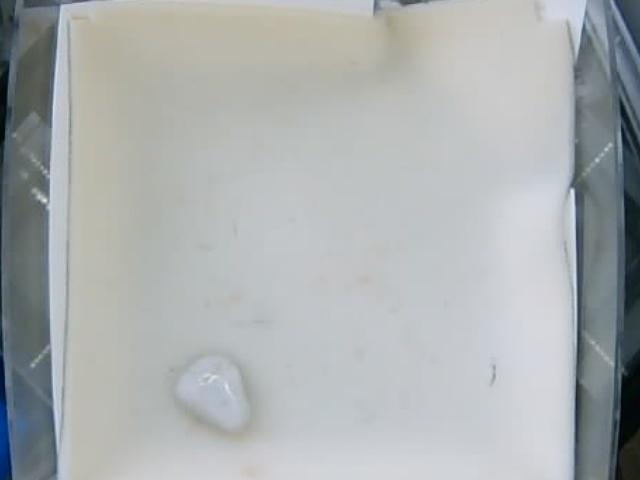Pebble: (177, 352, 251, 431)
